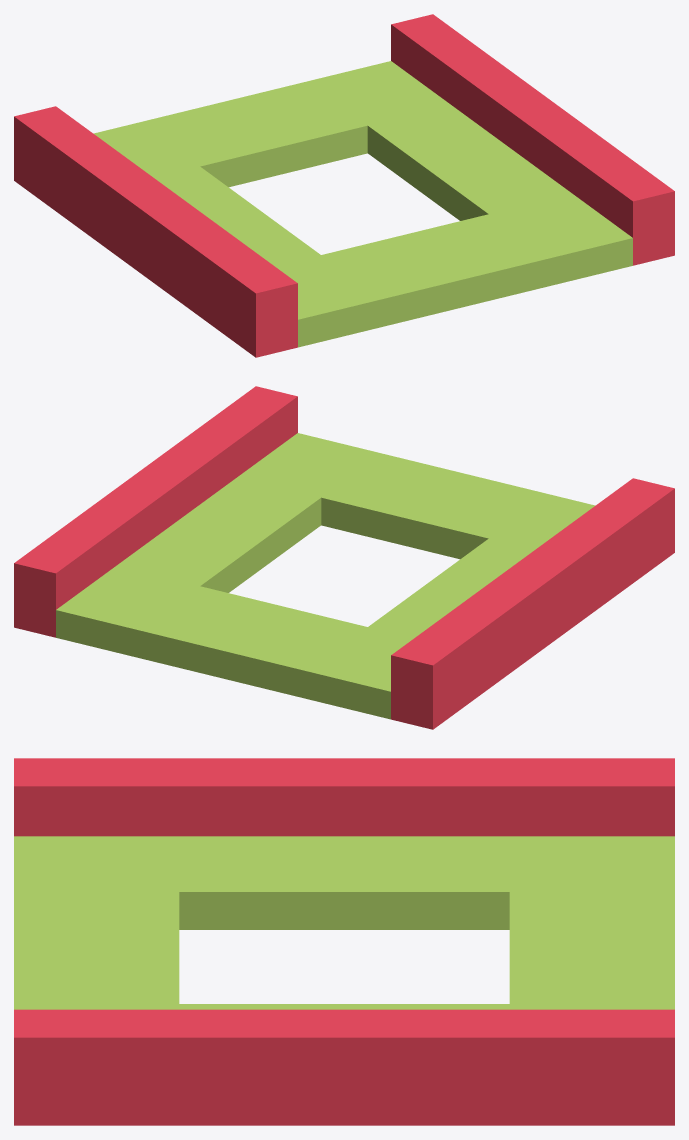
Rendered from gap.fbx.
3 views of the same model, one above another, from view 1: azimuth 30°, elevation 25°; view 2: azimuth 150°, elevation 25°; view 3: azimuth 270°, elevation 25° (orthographic). The views are drawn at different scales.
Visible parts, largest first — view 1: gap; view 2: gap; view 3: gap.
Boxes of the visible parts, x1,y1,x2,y2 form: gap: [14, 14, 674, 357]; gap: [14, 386, 674, 729]; gap: [14, 758, 674, 1125].
Bounding box in the file's own units: 10 × 1.47 × 10.
